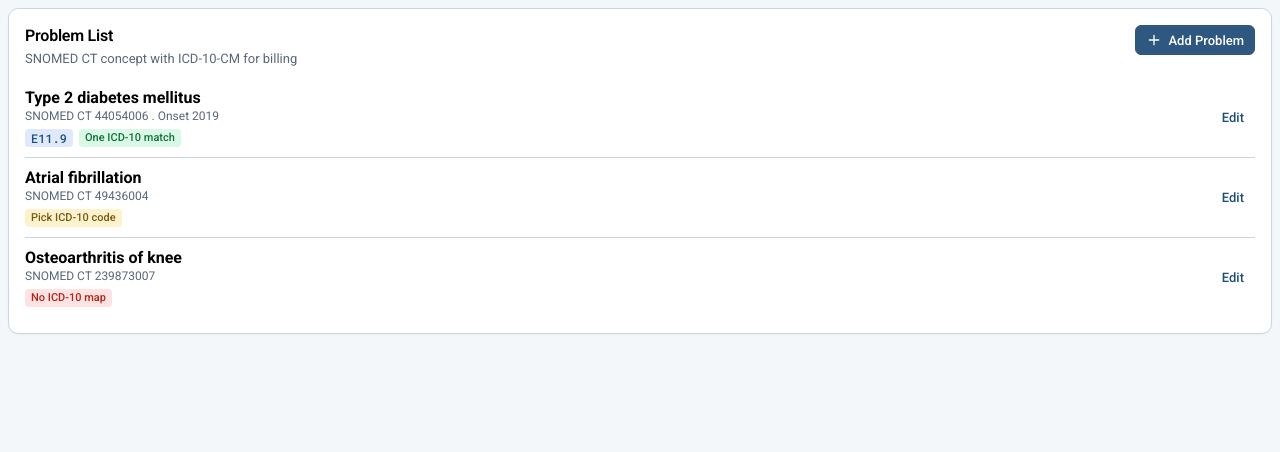
Test: ProblemListEditor › puts the problem back on Cancel
The image size is (1280, 452).
Click the button with aria-label "Edit Type 2 diabetes mellitus" at point(1233, 118), box top-left (1211, 102), bottom-right (1255, 132)
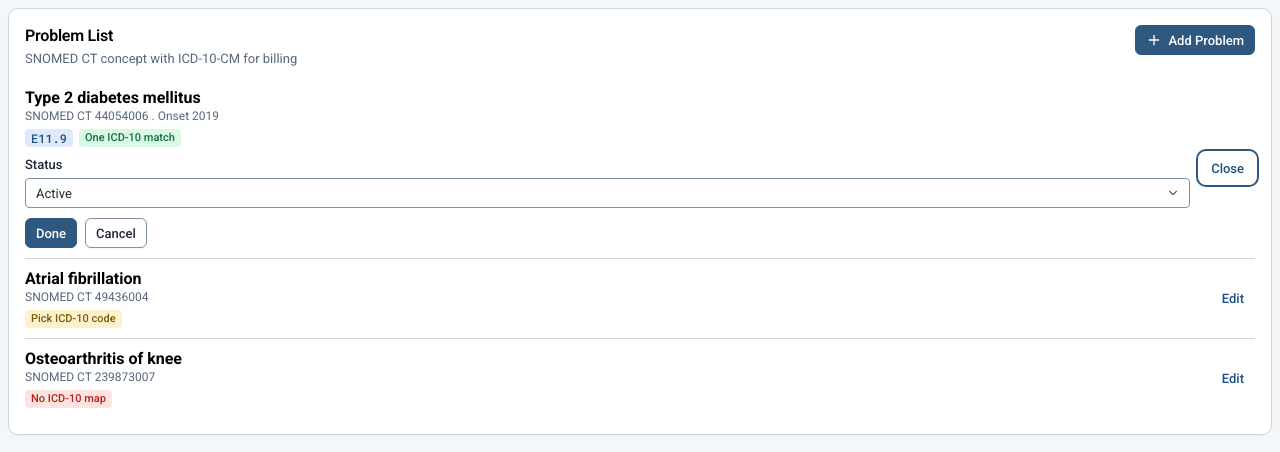
Select "Entered in error" in the dropdown labelled "Status" at point(608, 193), box top-left (25, 178), bottom-right (1190, 208)
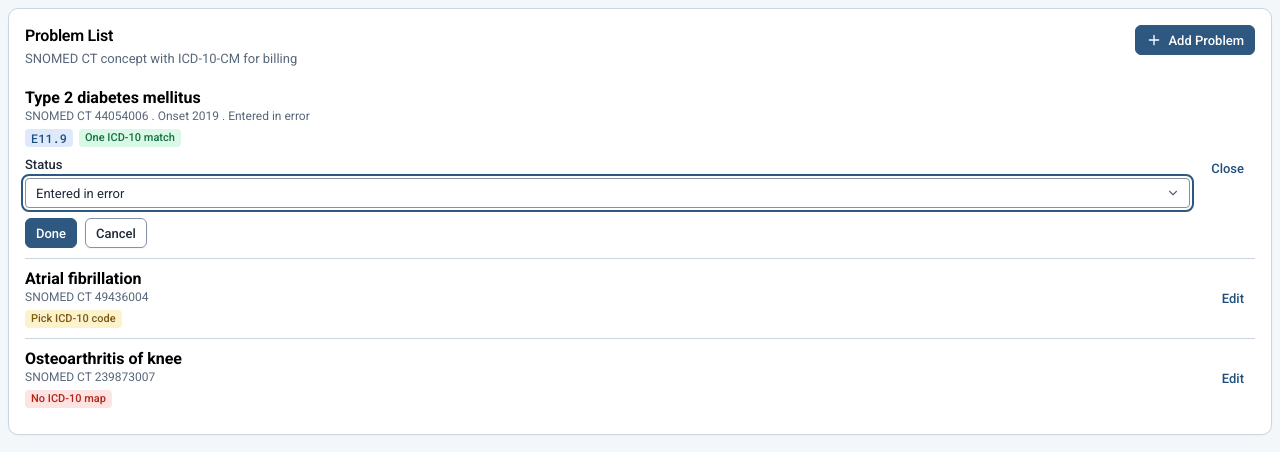
Check: the list item "Type 2 diabetes mellitus" shows "Entered in error", box top-left (25, 109), bottom-right (310, 123)
Click the button "Cancel" at point(116, 233), box top-left (85, 218), bottom-right (147, 248)
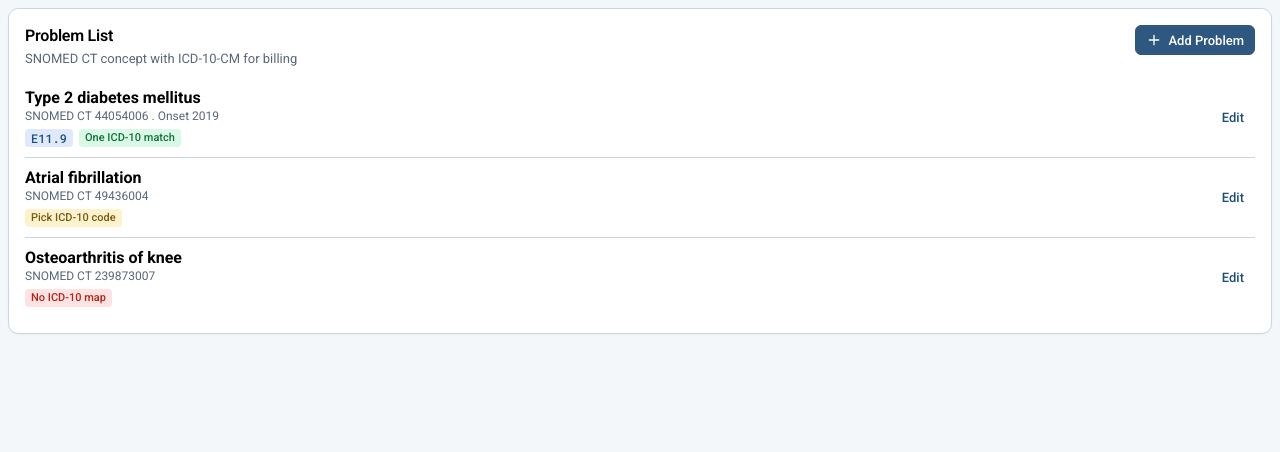
Check: the list item "Type 2 diabetes mellitus" no longer shows "Entered in error", box top-left (25, 78), bottom-right (1255, 157)
